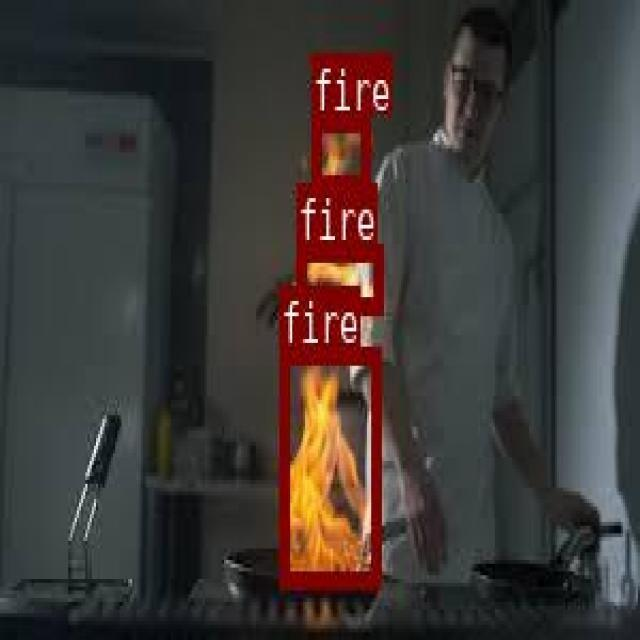fire: (280, 345, 379, 584), (296, 242, 380, 311), (310, 111, 368, 188)
